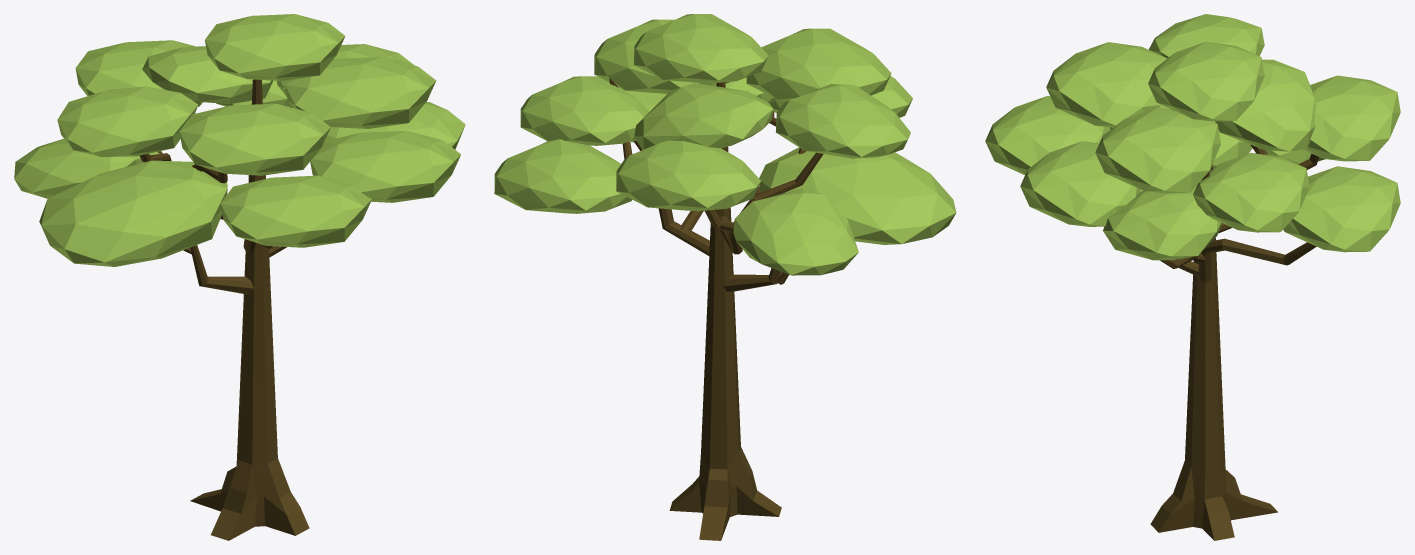
Rendered from SM_RF_AshTree_002.fbx.
The picture shows the model from 3 angles, left to right: view 1: azimuth 30°, elevation 25°; view 2: azimuth 150°, elevation 25°; view 3: azimuth 270°, elevation 25°; orthographic projection. The views are drawn at different scales.
Visible parts, largest first — view 1: SM_RF_AshTree_002; view 2: SM_RF_AshTree_002; view 3: SM_RF_AshTree_002.
Part boxes in pixels (x1,y1,x2,y2): SM_RF_AshTree_002: (14,14,465,540); SM_RF_AshTree_002: (494,14,956,540); SM_RF_AshTree_002: (985,14,1400,540).
Size of the model in its own units: 1905 by 2220 by 1774.
